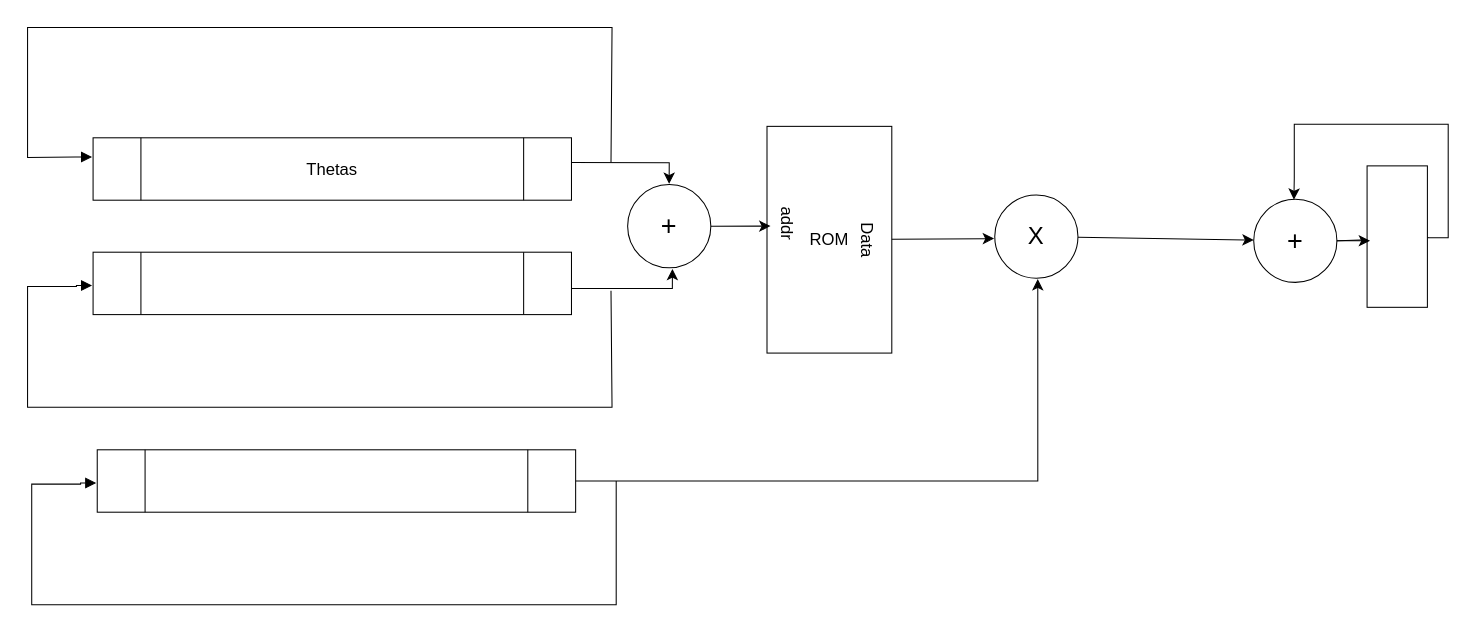
Some shapes in this 1477 by 633 pixel diagram are drawn without their labels. The centre of each missing label's shape, as x and y in pixels:
"Amplitude" goes at pixel 336 480.
"Deltas" goes at pixel 331 283.
